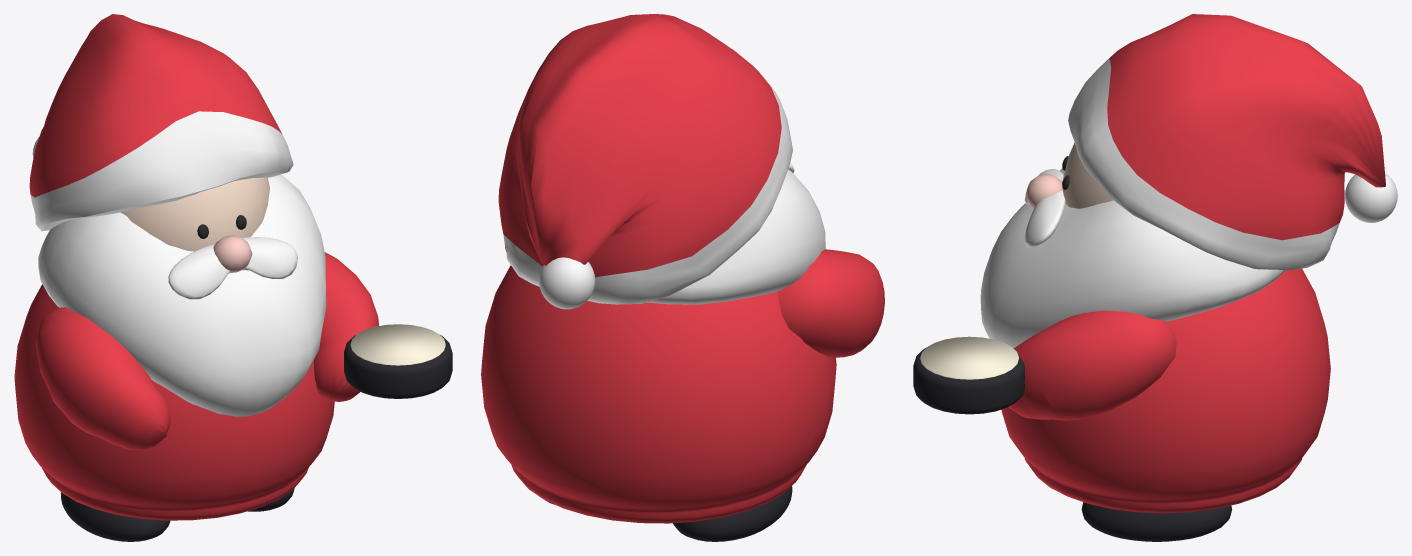
Rendered from gukbap.glb.
The picture shows the model from 3 angles, left to right: view 1: azimuth 30°, elevation 25°; view 2: azimuth 150°, elevation 25°; view 3: azimuth 270°, elevation 25°; orthographic projection. The views are drawn at different scales.
Parts seen in each view (by area): view 1: gukbap_red, gukbap_white, gukbap_black, gukbap_skin, gukbap_cream, gukbap_nose; view 2: gukbap_red, gukbap_white, gukbap_black; view 3: gukbap_red, gukbap_white, gukbap_black, gukbap_cream, gukbap_skin, gukbap_nose.
Part boxes in pixels (x1,y1,x2,y2): gukbap_red: (14, 14, 378, 520); gukbap_white: (30, 111, 326, 416); gukbap_black: (60, 215, 452, 541); gukbap_skin: (121, 177, 269, 251); gukbap_cream: (350, 324, 445, 365); gukbap_nose: (213, 235, 252, 272); gukbap_red: (481, 14, 884, 523); gukbap_white: (503, 72, 825, 309); gukbap_black: (546, 486, 792, 541); gukbap_red: (1001, 14, 1385, 513); gukbap_white: (980, 59, 1397, 348); gukbap_black: (913, 156, 1232, 541); gukbap_cream: (920, 336, 1018, 379); gukbap_skin: (1062, 142, 1112, 208); gukbap_nose: (1025, 174, 1062, 208).
Size of the model in its own units: 2.27 by 2.98 by 2.75.
